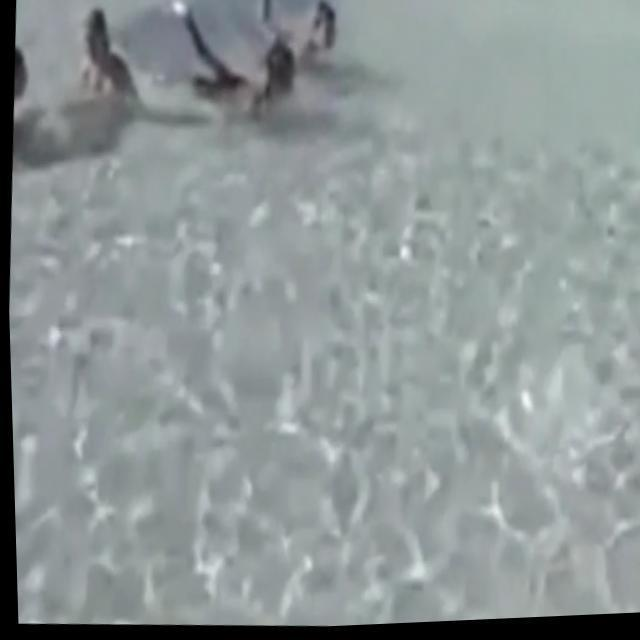swimming: (176, 6, 369, 108)
